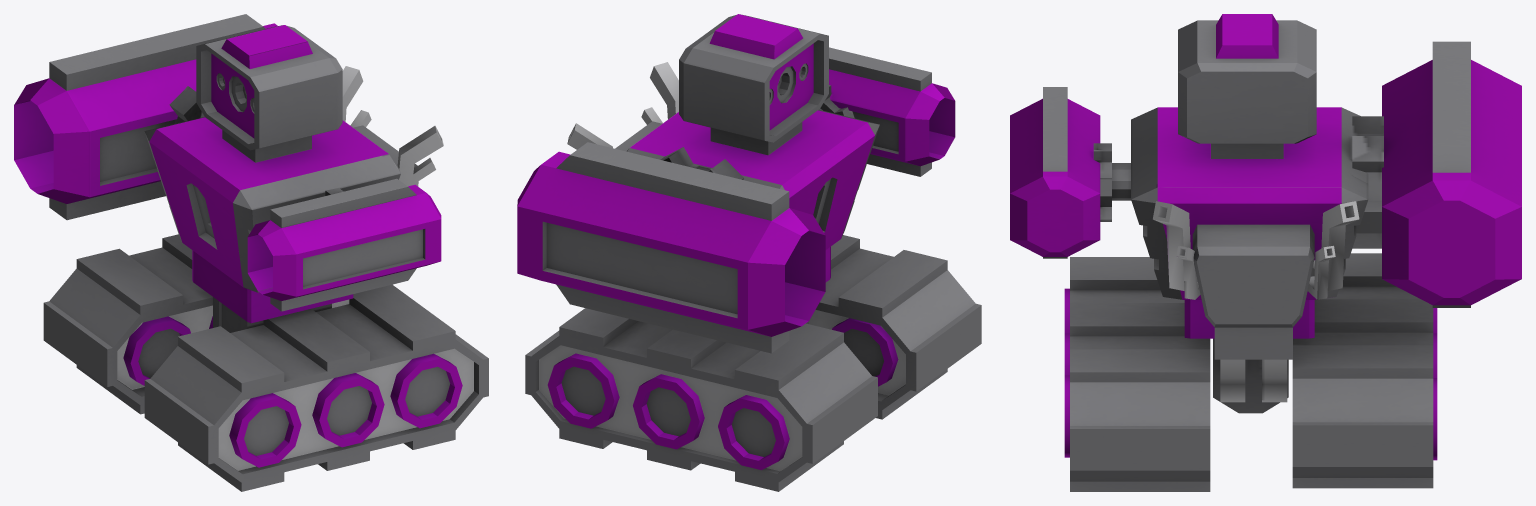
Rendered from Enemy2_Move13.obj.
3 views of the same model, side by side, from view 1: azimuth 30°, elevation 25°; view 2: azimuth 150°, elevation 25°; view 3: azimuth 270°, elevation 25° (orthographic). The views are drawn at different scales.
Parts seen in each view (by area): view 1: Object006, Object007, Object010, Object009; view 2: Object006, Object007, Object010, Object009; view 3: Object006, Object007, Object010, Object009, Object008.
Boxes of the visible parts, x1=… form: Object006: x1=14, y1=14, x2=488, y2=491; Object007: x1=144, y1=25, x2=400, y2=332; Object010: x1=332, y1=66, x2=443, y2=307; Object009: x1=169, y1=86, x2=204, y2=123; Object006: x1=517, y1=47, x2=981, y2=491; Object007: x1=627, y1=14, x2=879, y2=323; Object010: x1=567, y1=62, x2=678, y2=151; Object009: x1=660, y1=147, x2=743, y2=179; Object006: x1=1010, y1=41, x2=1521, y2=491; Object007: x1=1131, y1=14, x2=1368, y2=413; Object010: x1=1153, y1=201, x2=1359, y2=402; Object009: x1=1352, y1=116, x2=1383, y2=248; Object008: x1=1093, y1=143, x2=1131, y2=221.
Size of the model in its own units: 87.45 by 109 by 125.
